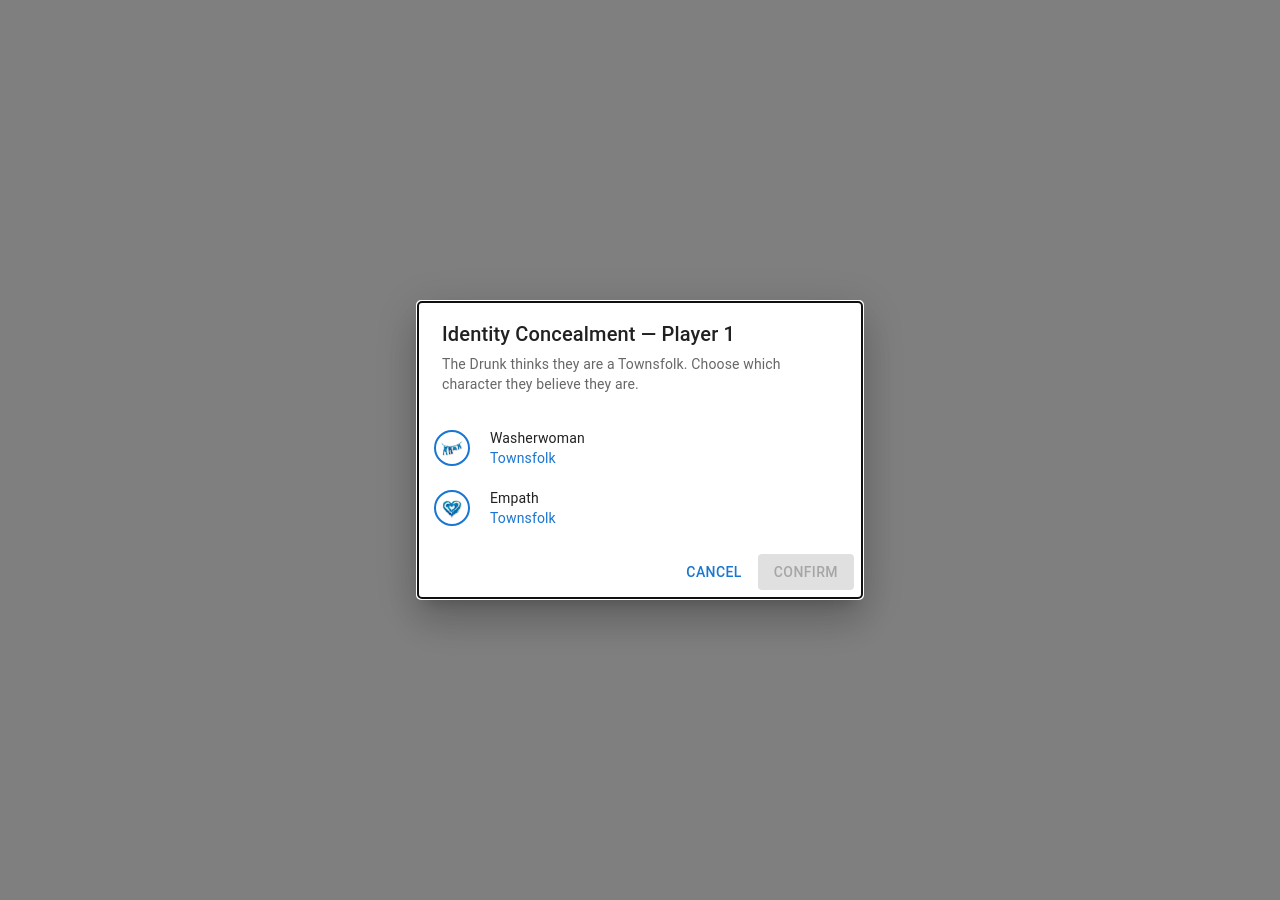
Test: ApparentCharacterDialog › selecting a candidate enables Confirm button
Click the button with test id "candidate-washerwoman" at (509, 448), box [434,430,585,466]
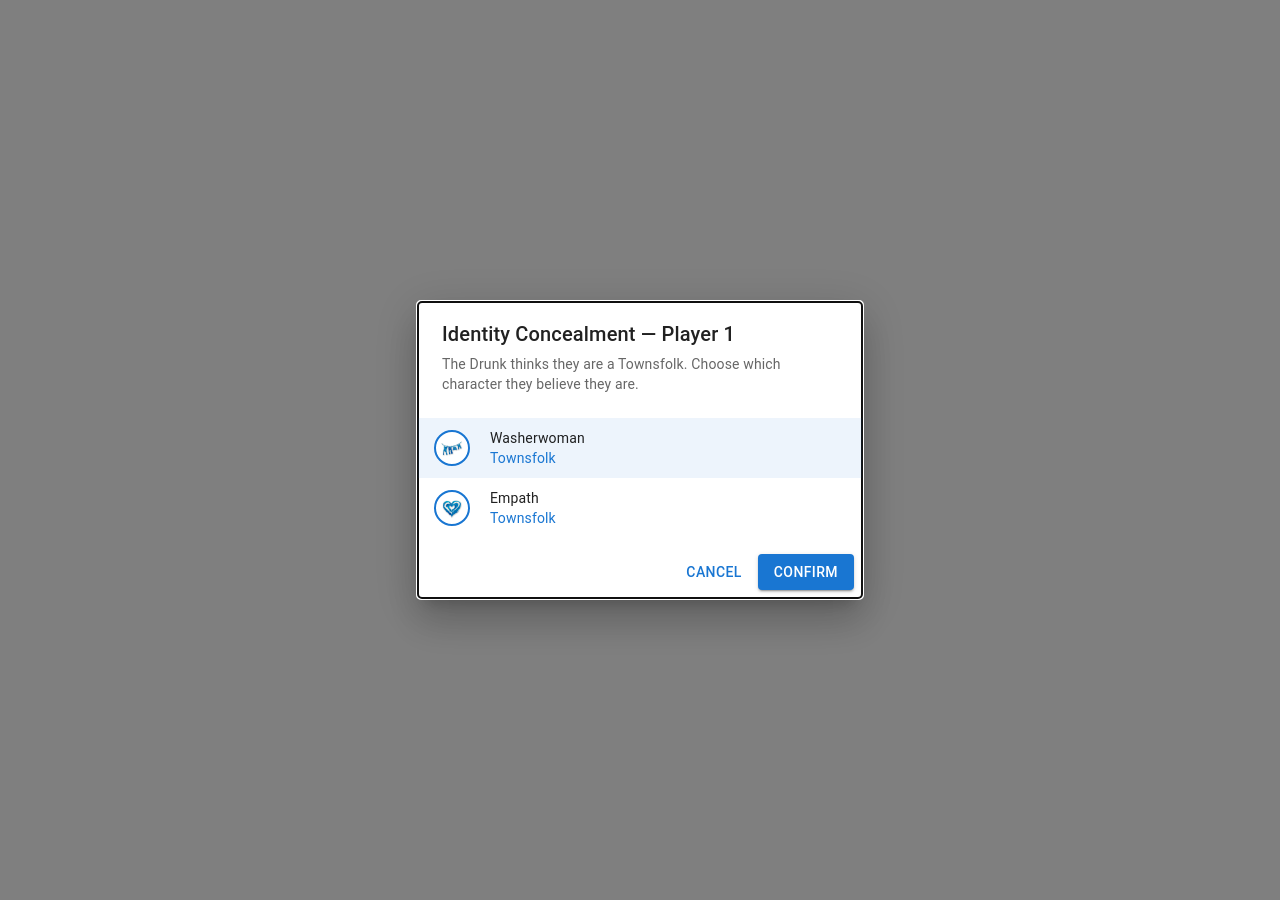
expect the button "Confirm" is enabled: met, box [758,554,854,590]
